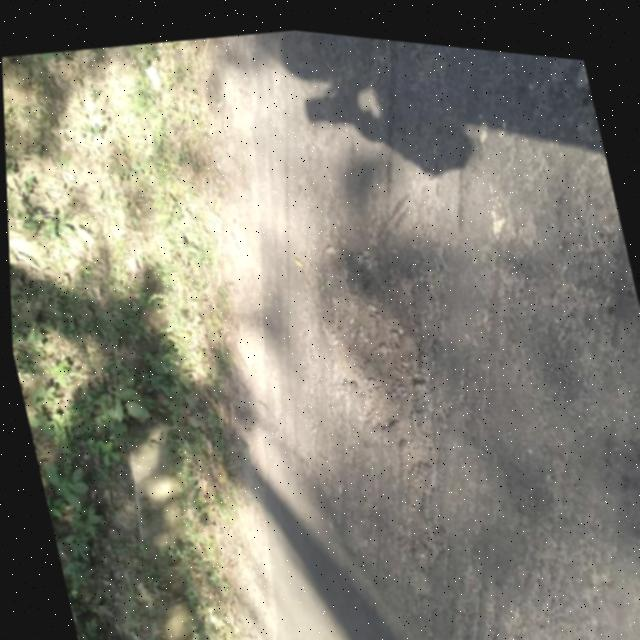Pothole: (304, 254, 461, 487)
